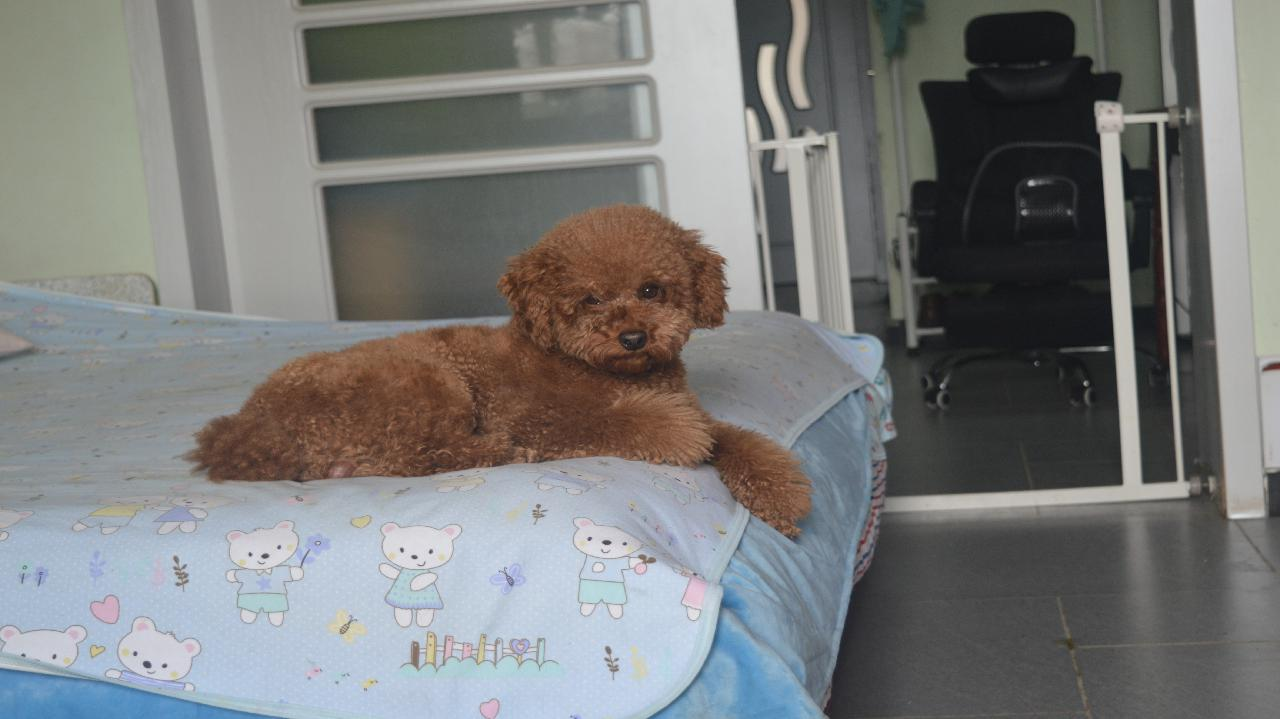zhuangzhuang: (216, 205, 827, 534)
